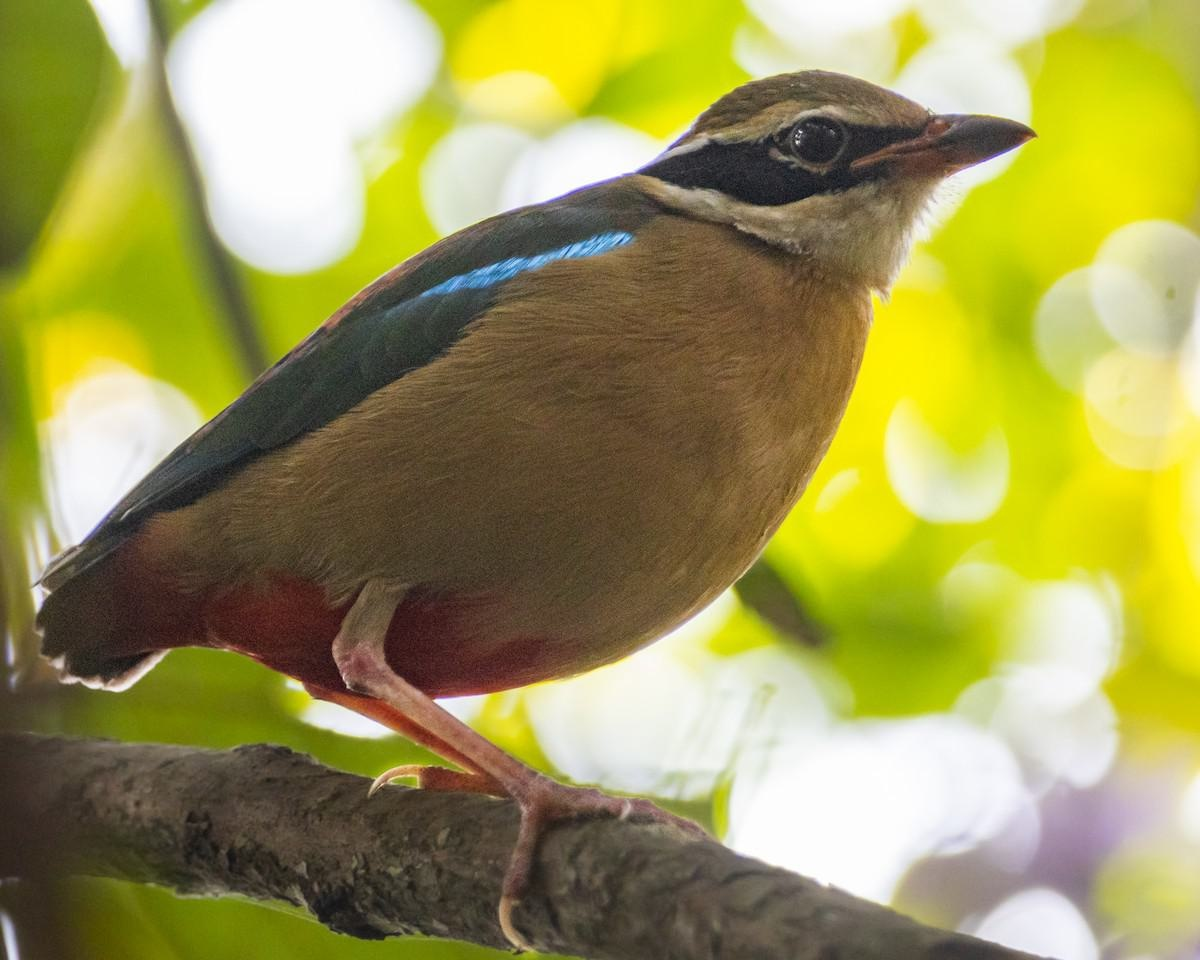pitta: (39, 58, 1062, 808)
